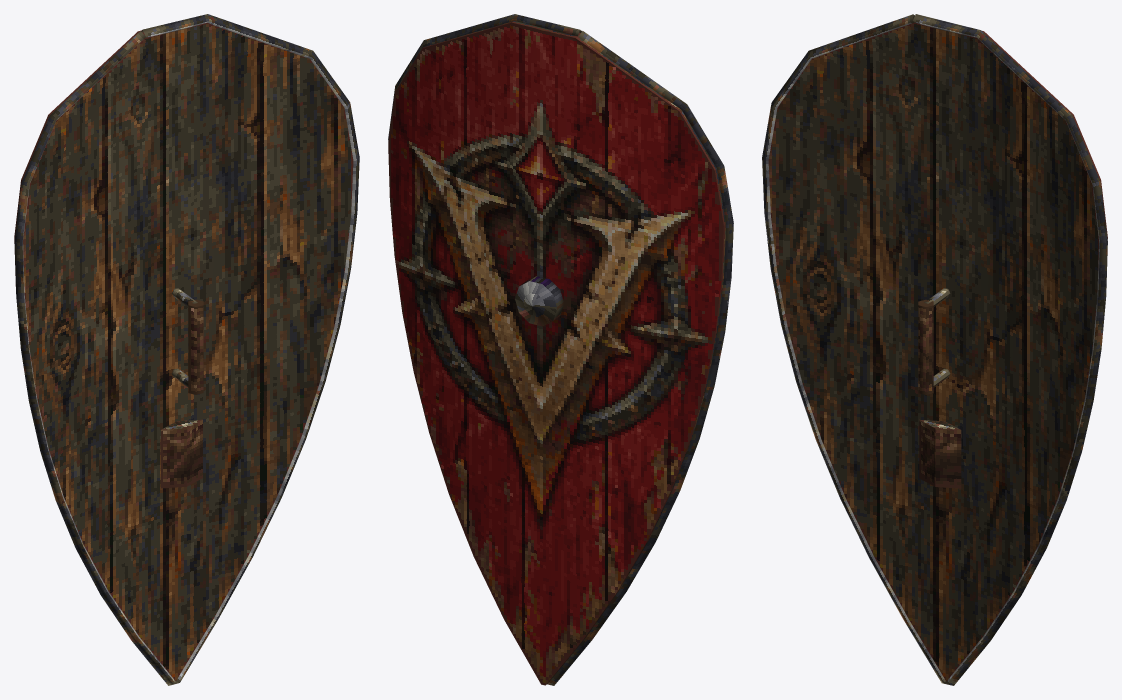
The model's file is knights_kite.glb.
The picture shows the model from 3 angles, left to right: view 1: azimuth 30°, elevation 25°; view 2: azimuth 150°, elevation 25°; view 3: azimuth 330°, elevation 25°; orthographic projection.
Parts seen in each view (by area): view 1: knights_kite; view 2: knights_kite; view 3: knights_kite.
Boxes of the visible parts, left/top/right/bottom form: knights_kite: left=14, top=14, right=359, bottom=685; knights_kite: left=388, top=14, right=733, bottom=685; knights_kite: left=762, top=14, right=1107, bottom=685.
Bounding box in the file's own units: 0.4939 × 0.9053 × 0.102.
1 material, 1 textured.
